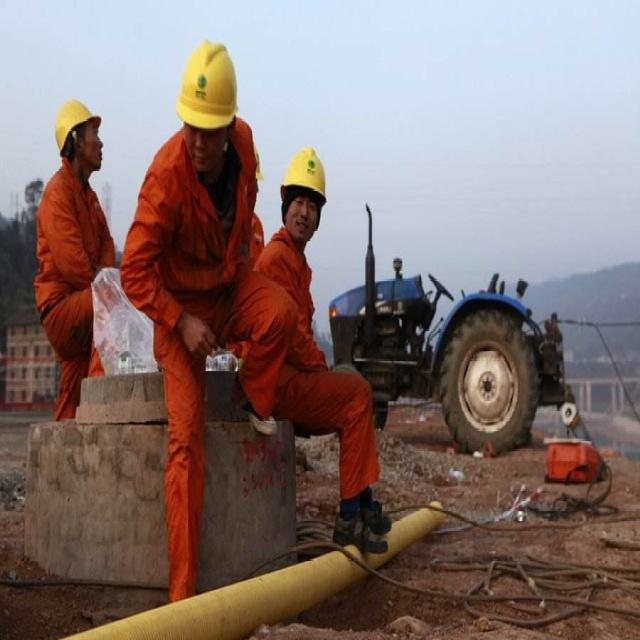helmet: (174, 43, 240, 232), (278, 194, 328, 326), (51, 128, 105, 248)
